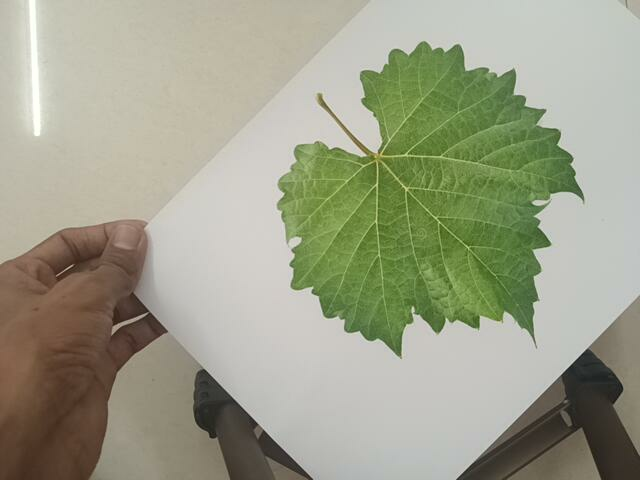Grape_Healthy: (280, 45, 586, 354)
